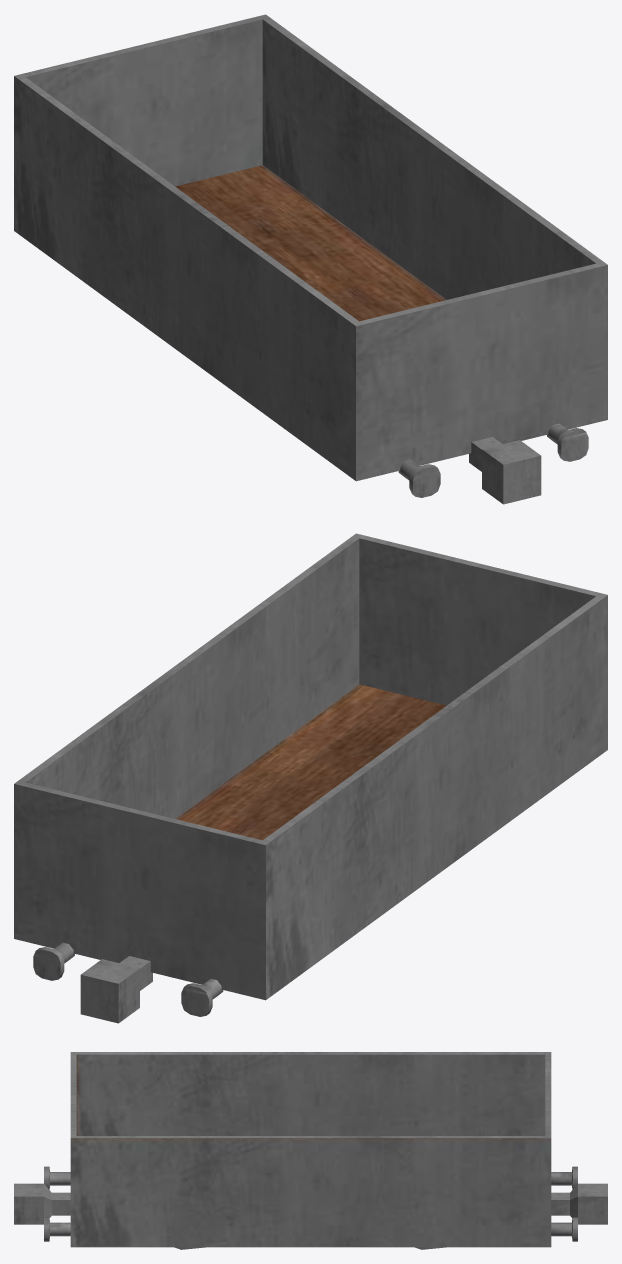
File: wagon_03.gltf
The picture shows the model from 3 angles, top to bottom: view 1: azimuth 30°, elevation 25°; view 2: azimuth 150°, elevation 25°; view 3: azimuth 270°, elevation 25°; orthographic projection. The views are drawn at different scales.
Visible parts, largest first — view 1: FreightWag_1_FreightWagon_1_0; view 2: FreightWag_1_FreightWagon_1_0; view 3: FreightWag_1_FreightWagon_1_0.
Part boxes in pixels (x1=…): FreightWag_1_FreightWagon_1_0: x1=14, y1=14, x2=607, y2=504; FreightWag_1_FreightWagon_1_0: x1=14, y1=533, x2=607, y2=1023; FreightWag_1_FreightWagon_1_0: x1=14, y1=1052, x2=607, y2=1249.
Size of the model in its own units: 3.79 by 2.81 by 11.03.
